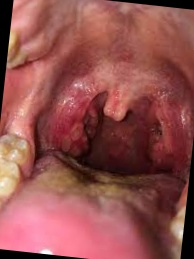Ulcer: (57, 118, 91, 162), (101, 94, 129, 120)
